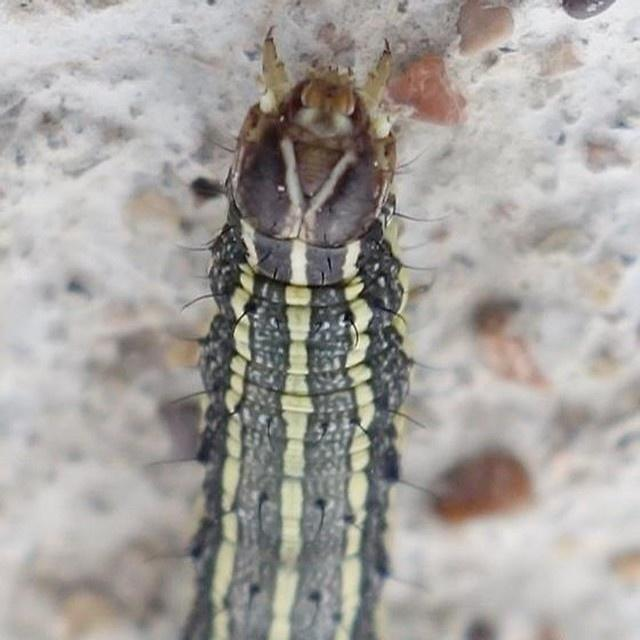gusano_cogollero: (185, 21, 412, 640)
